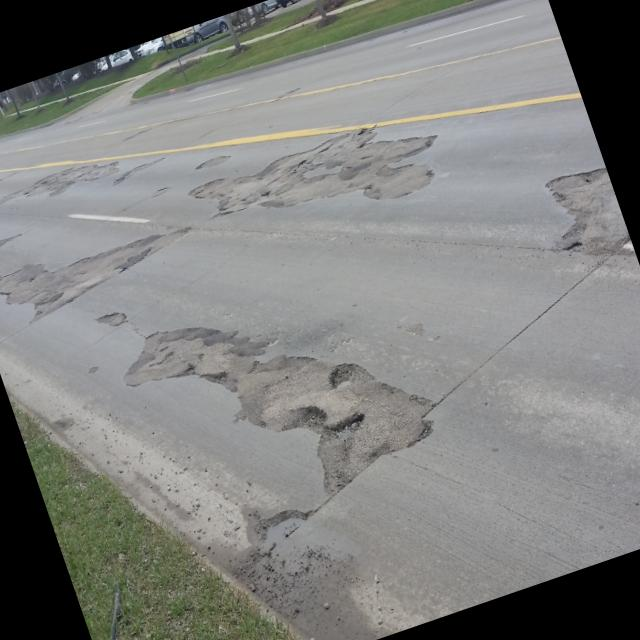Potholes: (184, 74, 438, 280), (247, 337, 421, 512), (0, 194, 175, 323), (19, 120, 142, 226)
